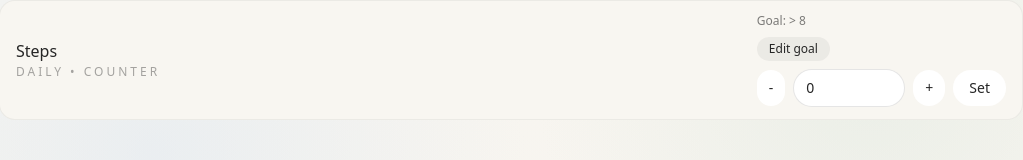
Test: HabitRow counter goals › rejects decimal counter goal values when editing
Click the button "Edit goal" at (793, 49), box [757, 37, 830, 61]
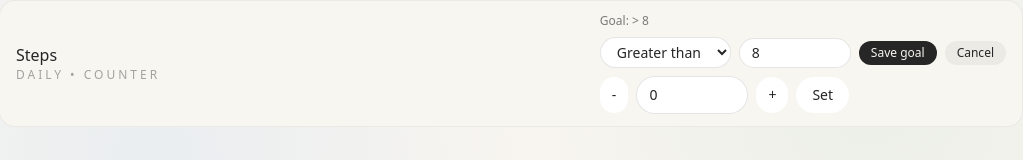
Replace the text in the field named "Edit counter goal value" with "10.5" at (795, 52), box [739, 38, 851, 68]
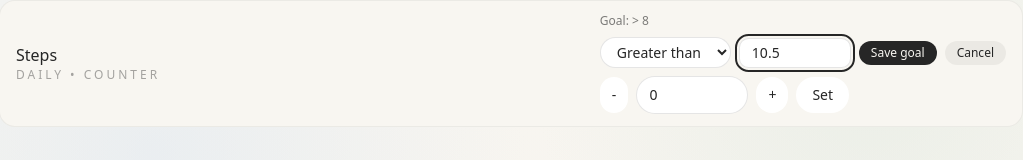
Click the button "Save goal" at (898, 52), box [859, 40, 937, 64]
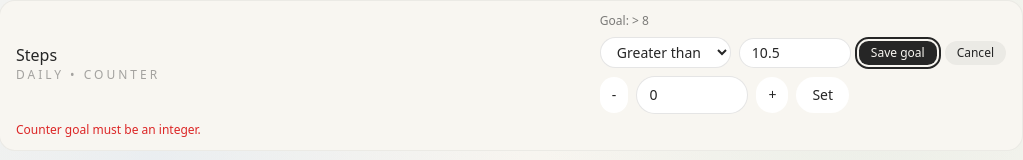
Check: the text "Counter goal must be an integer." is shown, box [16, 121, 201, 138]
